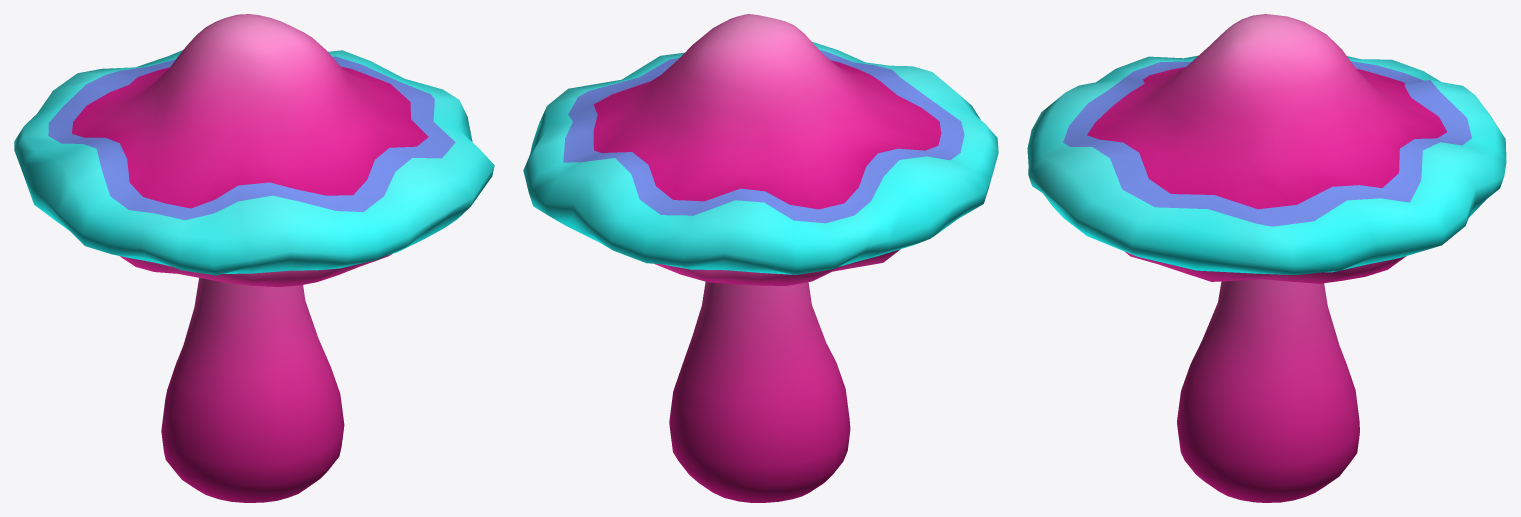
Rendered from Mushroom_0001_0020.fbx.
3 views of the same model, side by side, from view 1: azimuth 30°, elevation 25°; view 2: azimuth 150°, elevation 25°; view 3: azimuth 270°, elevation 25° (orthographic).
Parts seen in each view (by area): view 1: Mushroom_0001_0020; view 2: Mushroom_0001_0020; view 3: Mushroom_0001_0020.
Part boxes in pixels (x1=…): Mushroom_0001_0020: x1=14, y1=14, x2=494, y2=502; Mushroom_0001_0020: x1=523, y1=14, x2=998, y2=502; Mushroom_0001_0020: x1=1027, y1=14, x2=1506, y2=502.
Size of the model in its own units: 0.2545 by 0.2737 by 0.2553.
Materials: 1 (1 with a texture image).
